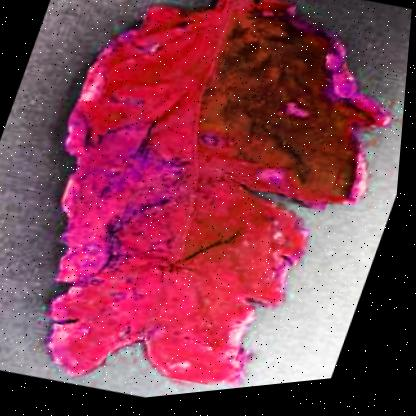BACTERIAL SPOT: (0, 0, 415, 414)
